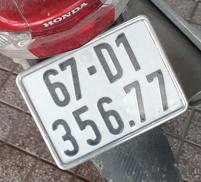1: (112, 30, 145, 75)
3: (49, 112, 84, 165)
5: (69, 106, 109, 150)
6: (38, 65, 76, 110), (92, 95, 130, 140)
7: (121, 76, 157, 135), (142, 65, 178, 119), (56, 55, 89, 105)
D: (91, 39, 128, 89)
